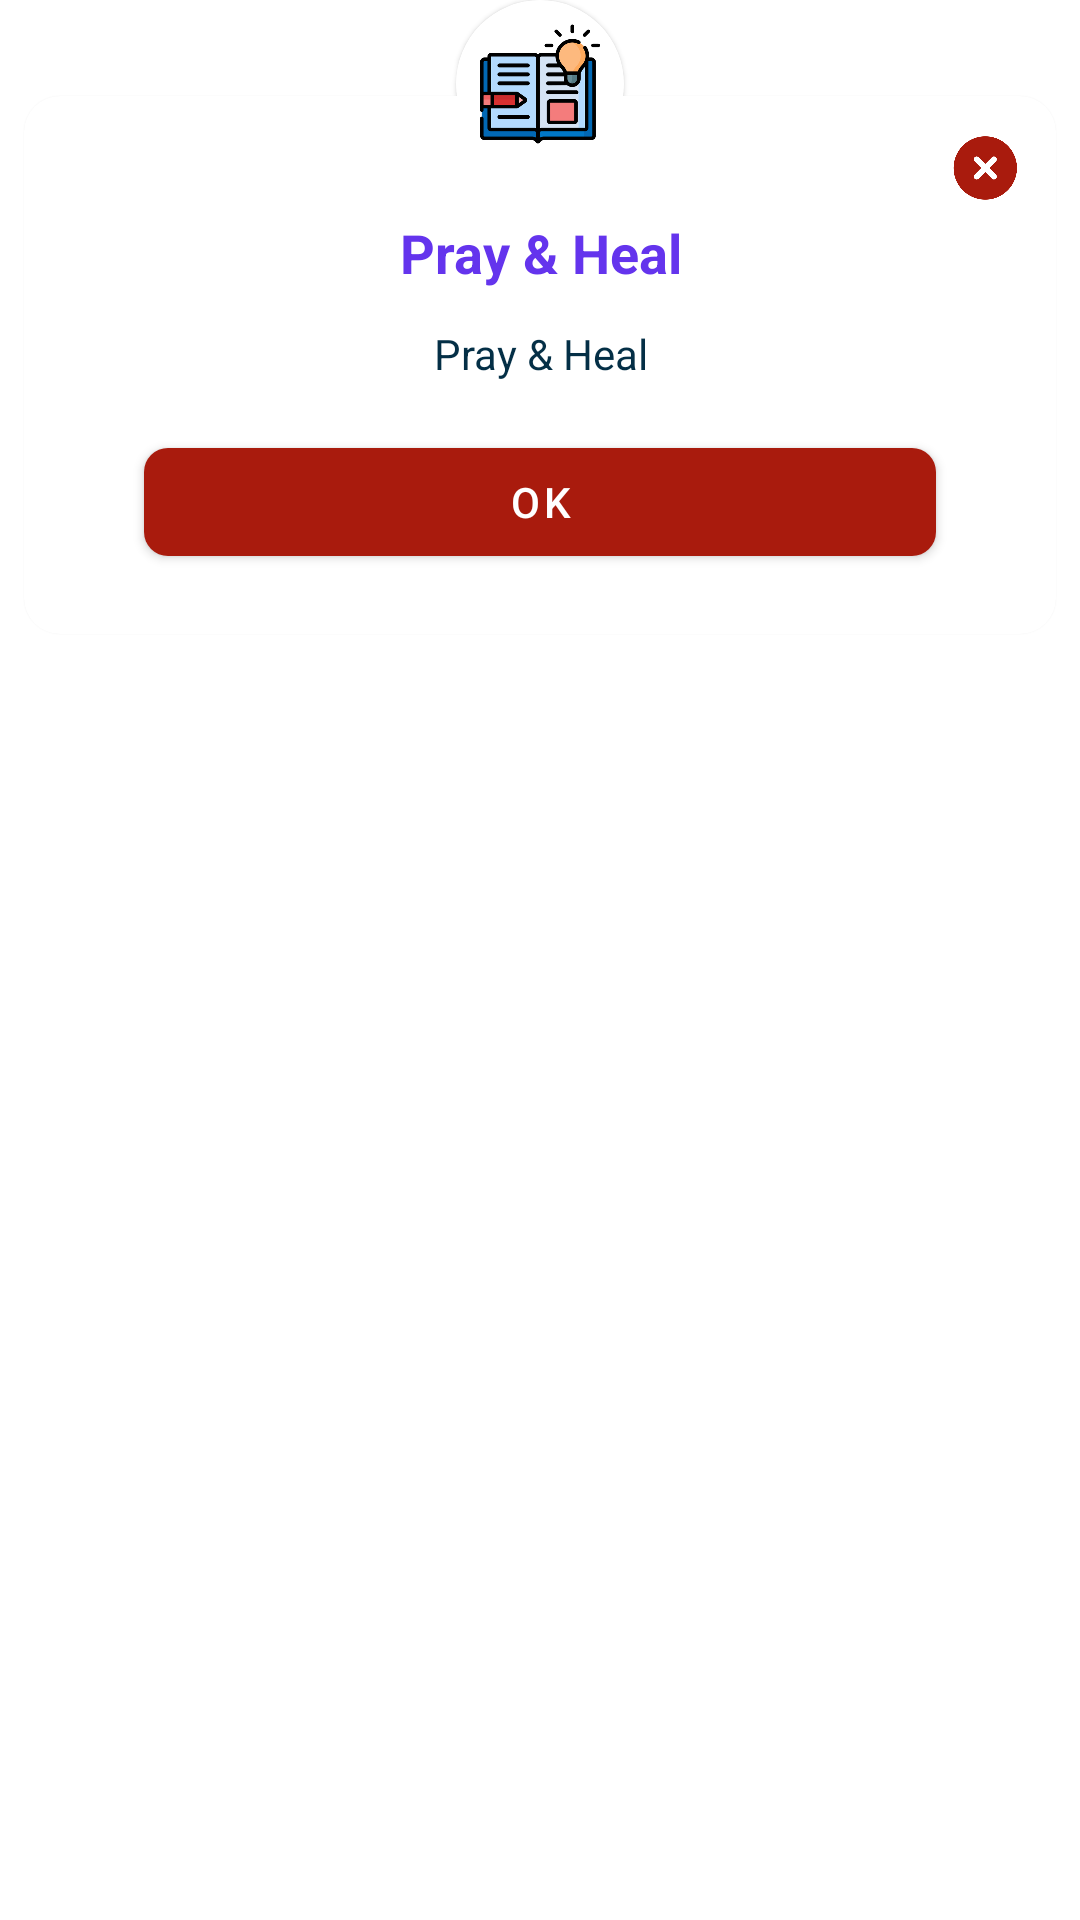

Screen size 1080w x 1920h. Icon name, then its center in pixels as point (x, y):
cross: point (985, 168)
